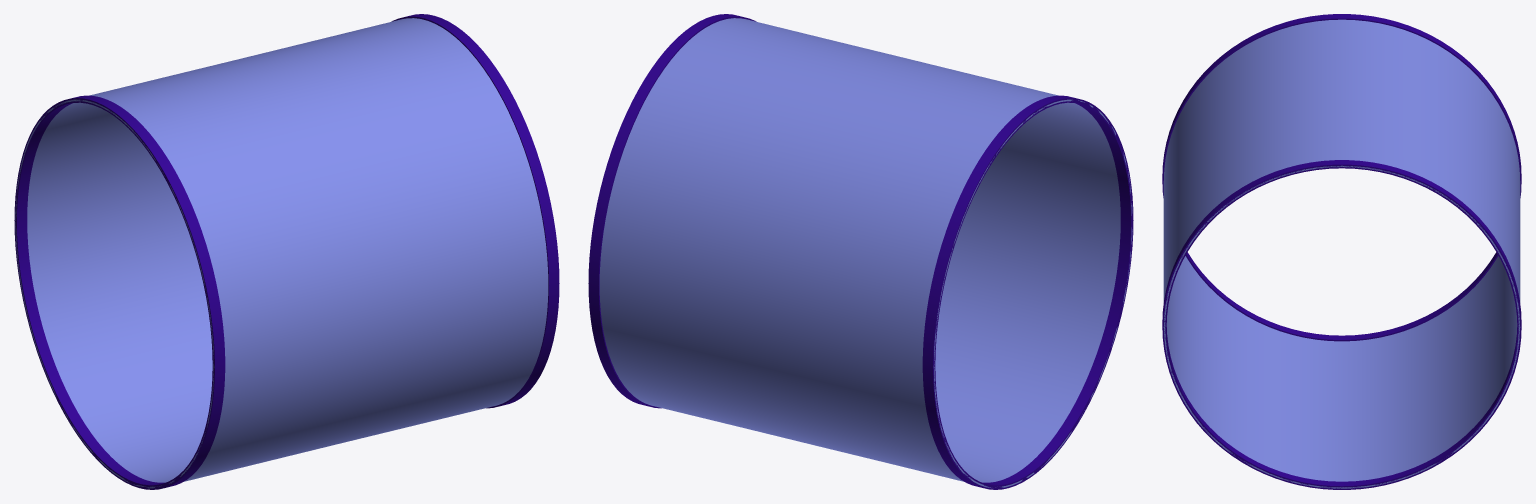
3 renders of one model, left to right at view 1: azimuth 30°, elevation 25°; view 2: azimuth 150°, elevation 25°; view 3: azimuth 270°, elevation 25°, orthographic. The views are drawn at different scales.
Visible parts, largest first — view 1: Sweep [12580]; view 2: Sweep [12580]; view 3: Sweep [12580].
Part boxes in pixels (<box>): Sweep [12580]: <box>14,14,559,489</box>; Sweep [12580]: <box>588,14,1133,489</box>; Sweep [12580]: <box>1162,14,1521,489</box>.
Bounding box in the file's own units: 500 × 504 × 504.
